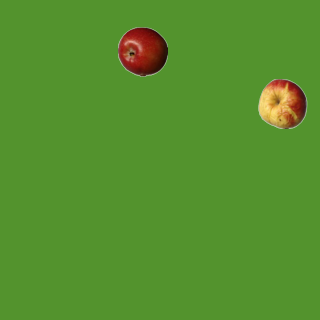Apple Braeburn: (117, 26, 167, 76)
Apple Red Yellow 1: (257, 78, 307, 128)
